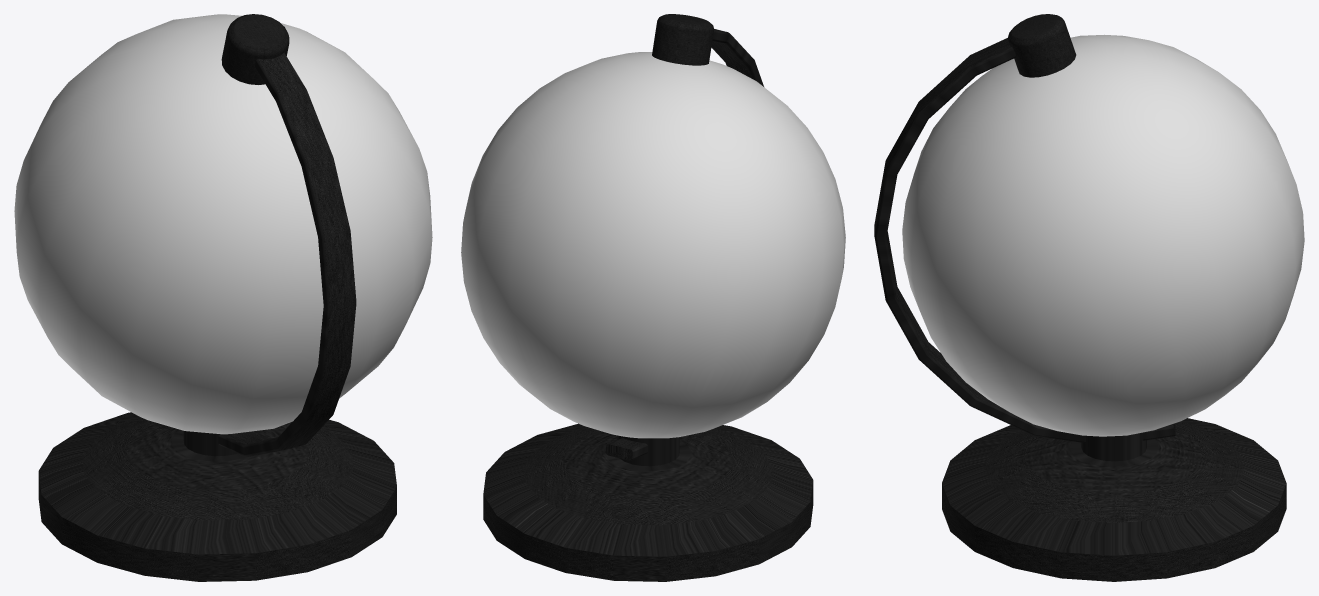
Rendered from SM_earth.fbx.
3 renders of one model, left to right at view 1: azimuth 30°, elevation 25°; view 2: azimuth 150°, elevation 25°; view 3: azimuth 270°, elevation 25°, orthographic. The views are drawn at different scales.
Parts seen in each view (by area): view 1: pSphere3, pCylinder28, pCylinder29, pCylinder30; view 2: pSphere3, pCylinder28, pCylinder30, pCylinder29; view 3: pSphere3, pCylinder28, pCylinder29, pCylinder30.
Boxes of the visible parts, x1=… form: pSphere3: x1=14, y1=14, x2=432, y2=434; pCylinder28: x1=38, y1=412, x2=396, y2=581; pCylinder29: x1=218, y1=52, x2=356, y2=456; pCylinder30: x1=221, y1=14, x2=289, y2=84; pSphere3: x1=461, y1=52, x2=845, y2=438; pCylinder28: x1=483, y1=423, x2=813, y2=581; pCylinder30: x1=652, y1=14, x2=713, y2=65; pCylinder29: x1=605, y1=29, x2=763, y2=460; pSphere3: x1=902, y1=34, x2=1304, y2=436; pCylinder28: x1=942, y1=418, x2=1286, y2=581; pCylinder29: x1=874, y1=38, x2=1175, y2=442; pCylinder30: x1=1008, y1=14, x2=1076, y2=77.
Bounding box in the file's own units: 27.89 × 37.41 × 29.81.
